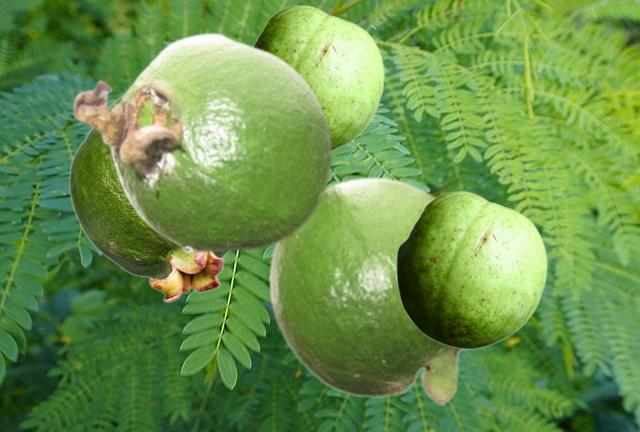guava: (71, 31, 333, 253), (267, 175, 466, 406), (68, 96, 227, 302), (396, 191, 546, 348), (253, 5, 383, 150)
